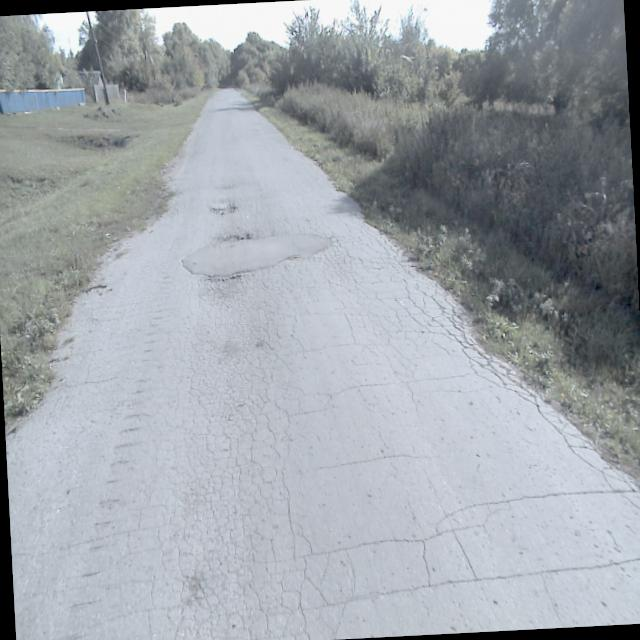road: (6, 87, 640, 640)
